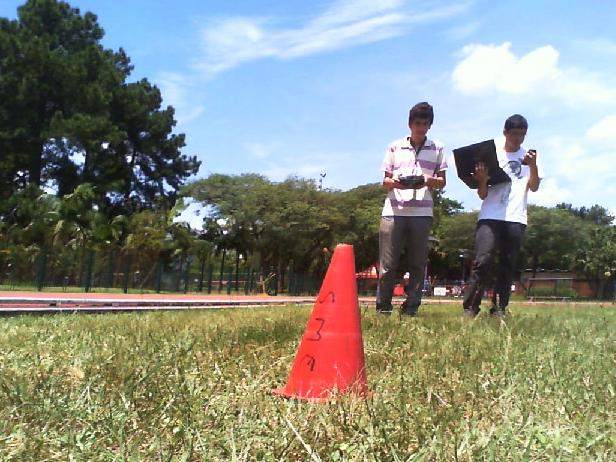0 cone: (271, 243, 378, 405)
